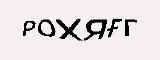Г: (123, 17, 137, 38)
О: (36, 18, 55, 38)
Р: (20, 18, 36, 38)
Х: (54, 16, 83, 42)
Я: (81, 17, 108, 42)
Ғ: (106, 17, 122, 40)
